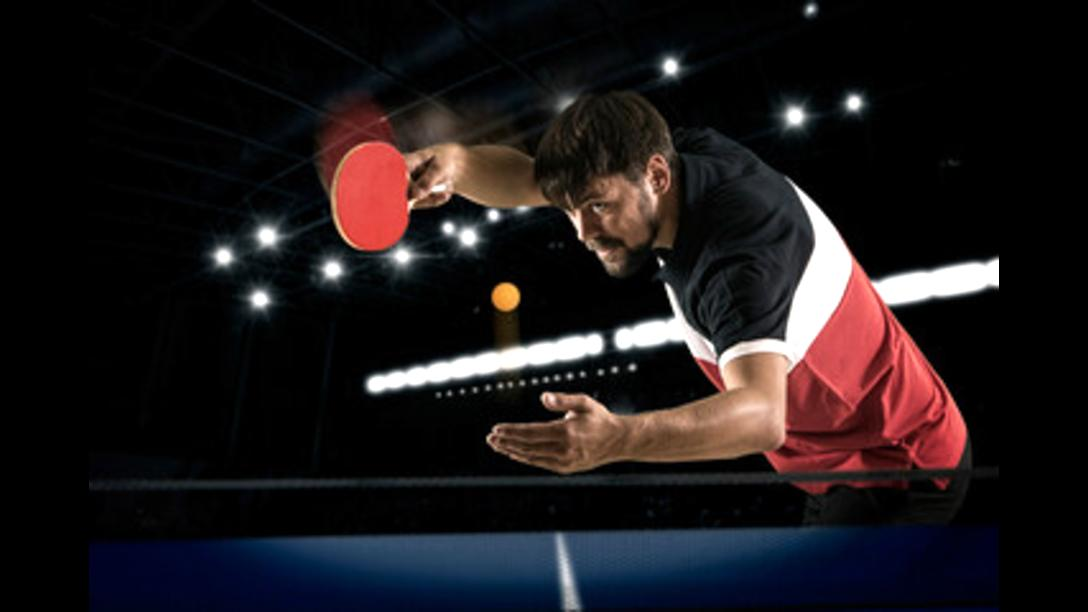Table-Tennis-Ball: (492, 282, 518, 310)
